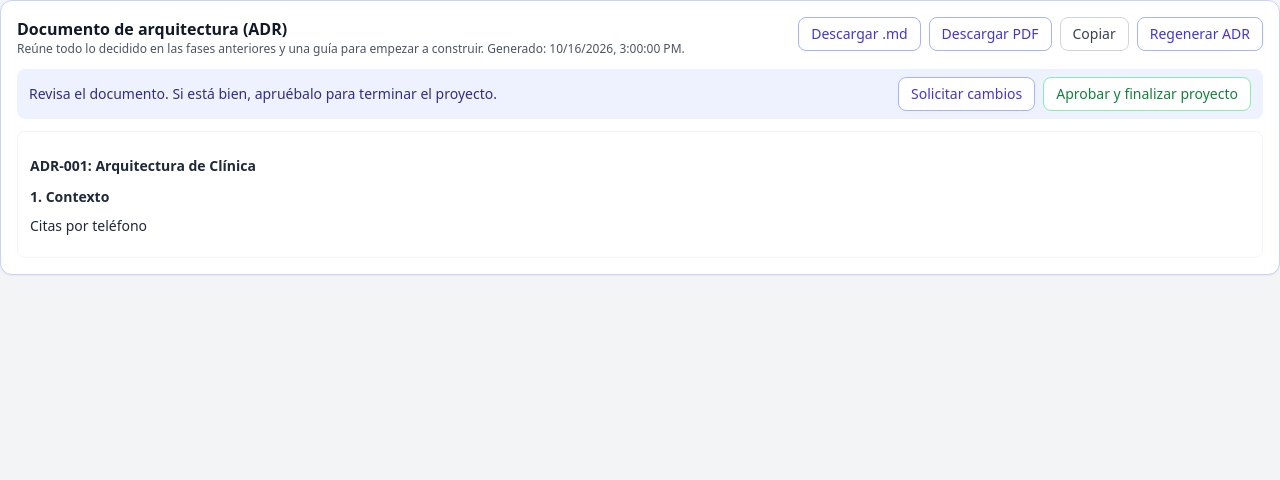
Scenario: AdrPanel › al pedir cambios aclara que solo se rehace la sección 7
Click the button with test id "adr-request-changes". click: [967, 94]
box: [898,77,1035,111]
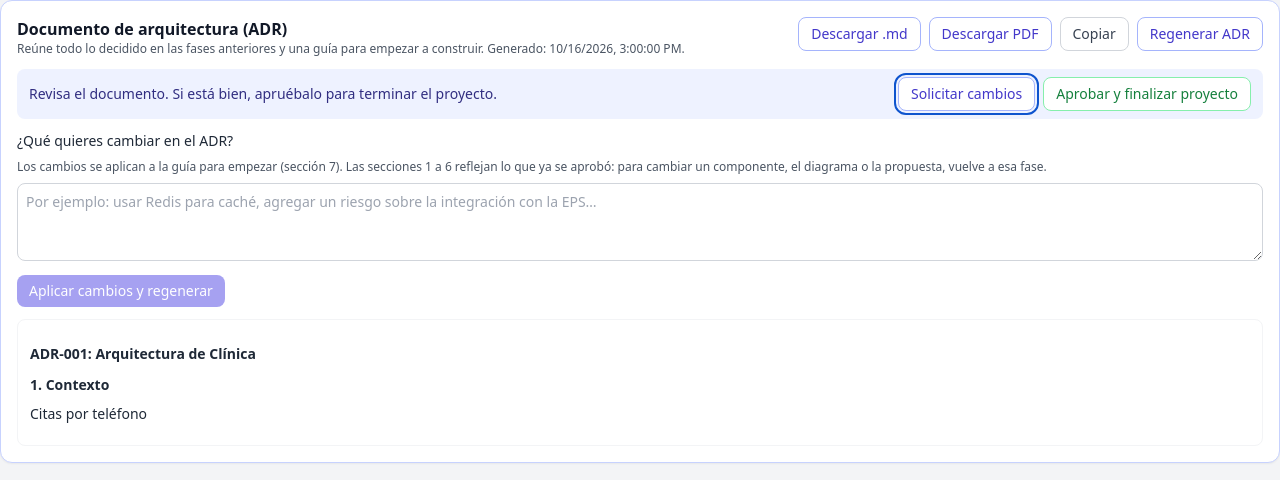
Expected: the text with test id "adr-changes-scope" shows "sección 7", [17,158,1047,175]
Expected: the text with test id "adr-changes-scope" shows "vuelve a esa fase", [17,158,1047,175]
